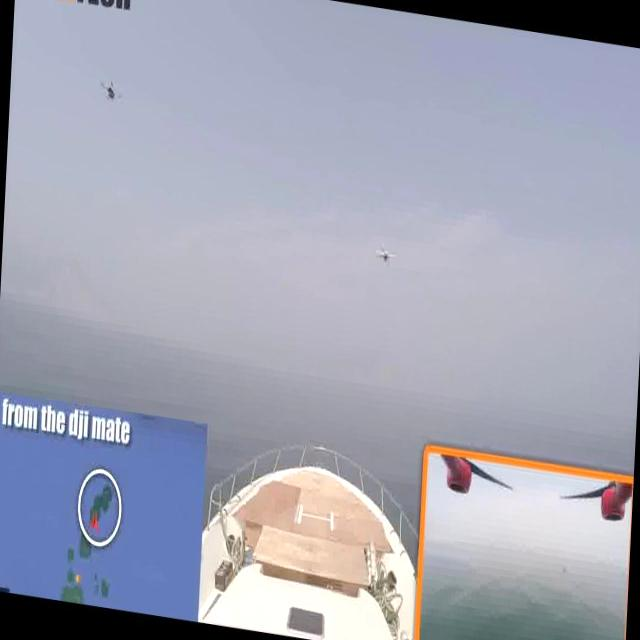drone: (92, 68, 129, 117), (372, 237, 396, 268)
